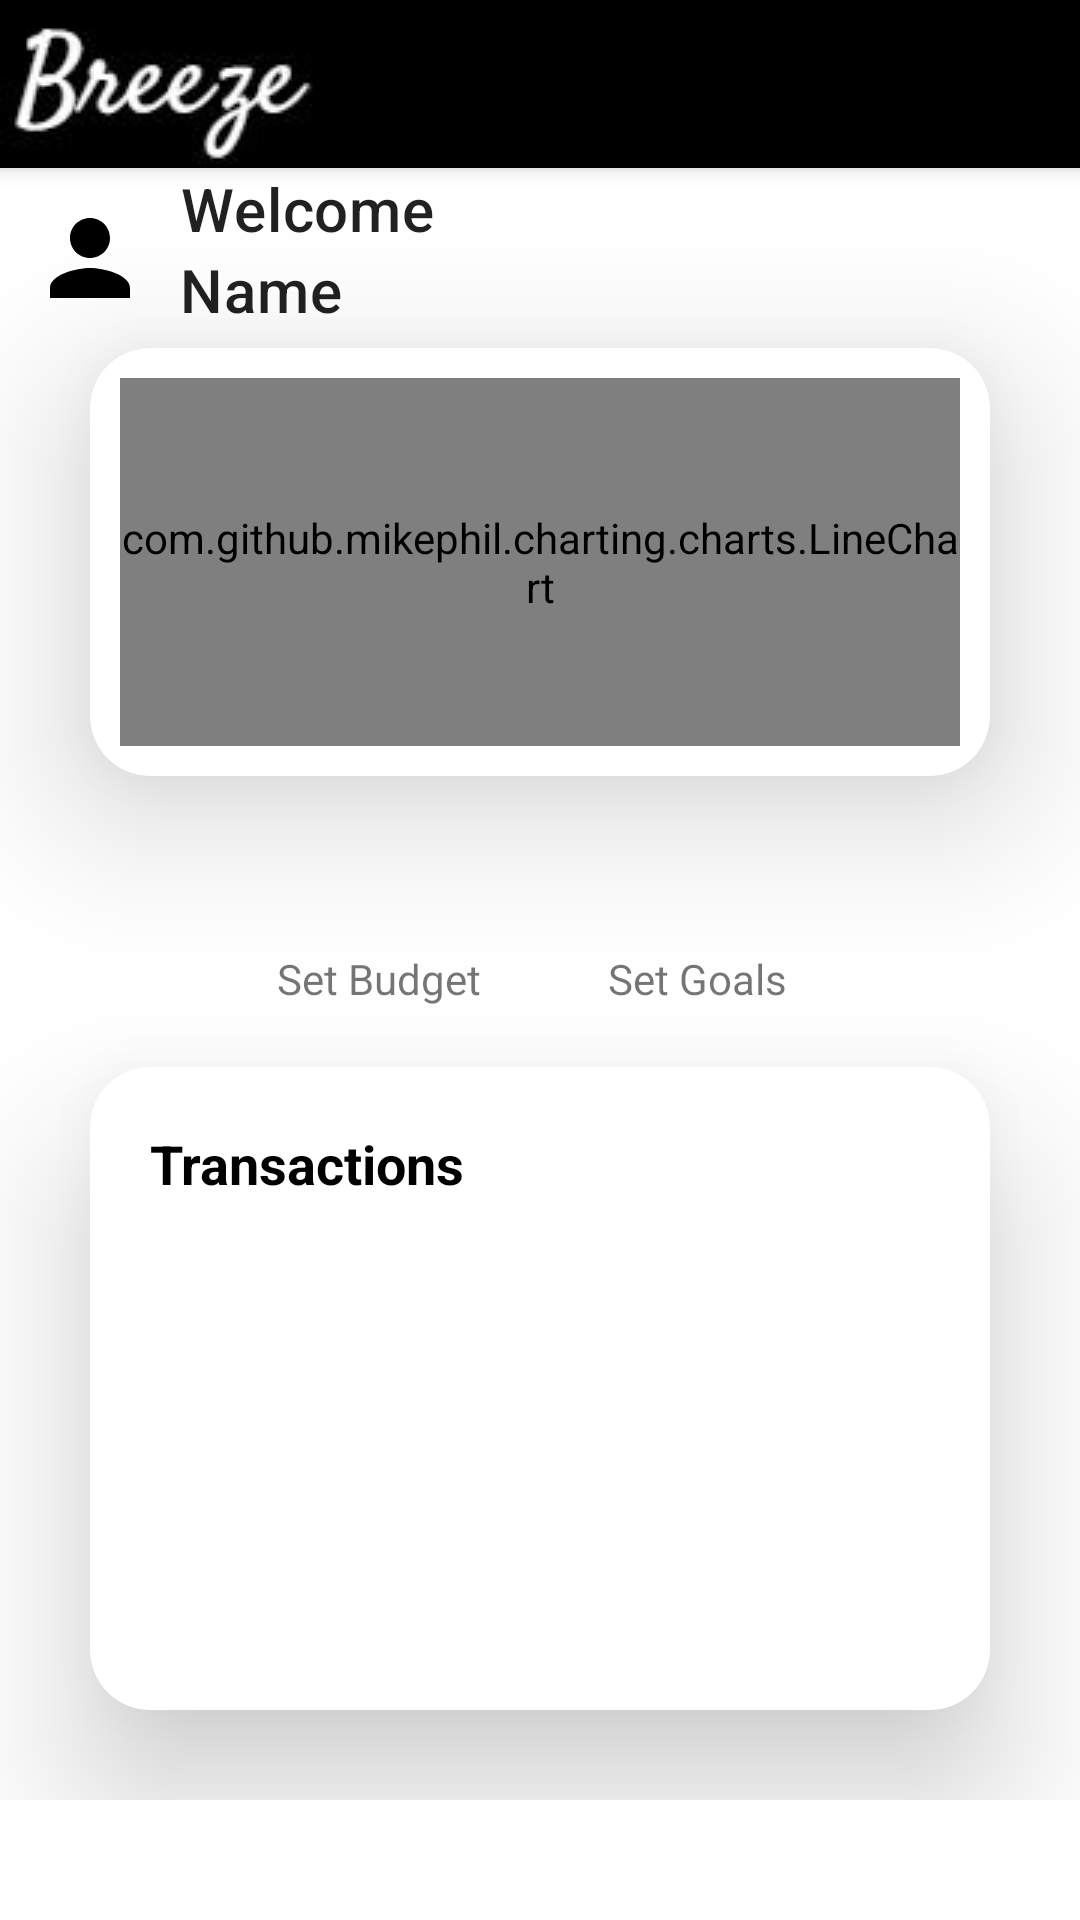

Screen size 1080w x 1920h. Icon name, then its center in pixels as [x,y]:
User Icon: [90,258]
